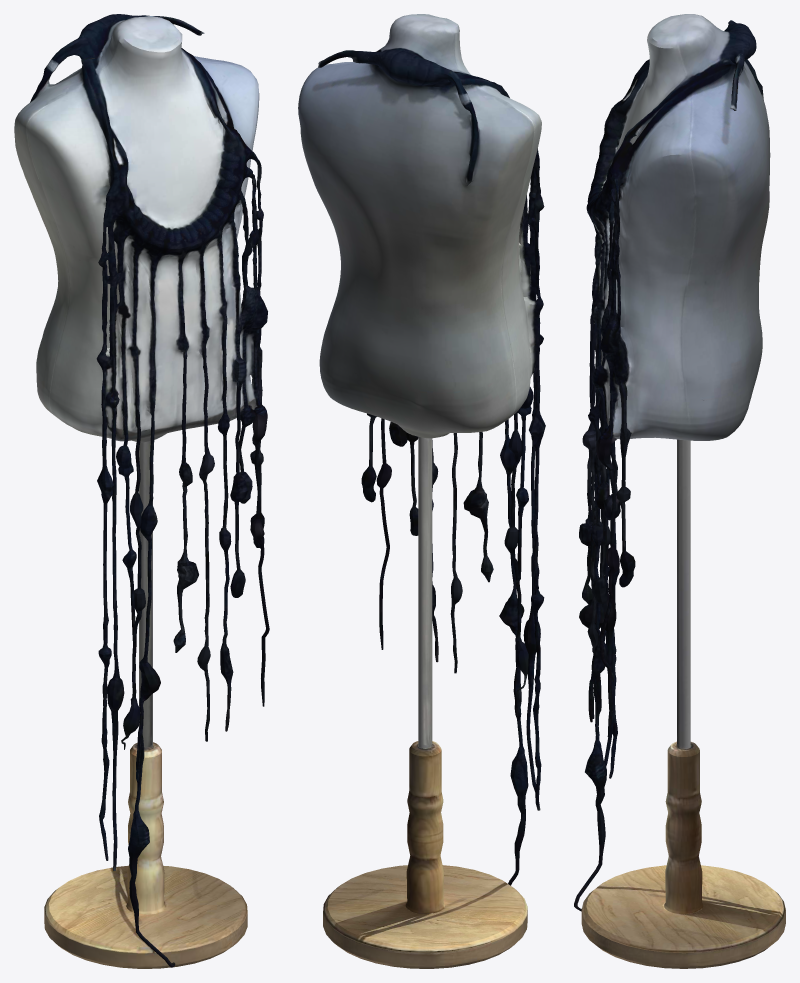
3 renders of one model, left to right at view 1: azimuth 30°, elevation 25°; view 2: azimuth 150°, elevation 25°; view 3: azimuth 270°, elevation 25°, orthographic.
Visible parts, largest first — view 1: B_torso; view 2: B_torso; view 3: B_torso.
Part boxes in pixels (<box>): B_torso: <box>14,14,269,968</box>; B_torso: <box>298,14,545,968</box>; B_torso: <box>574,14,785,968</box>.
Bounding box in the file's own units: 0.3321 × 1.28 × 0.271.
1 material, 1 textured.
